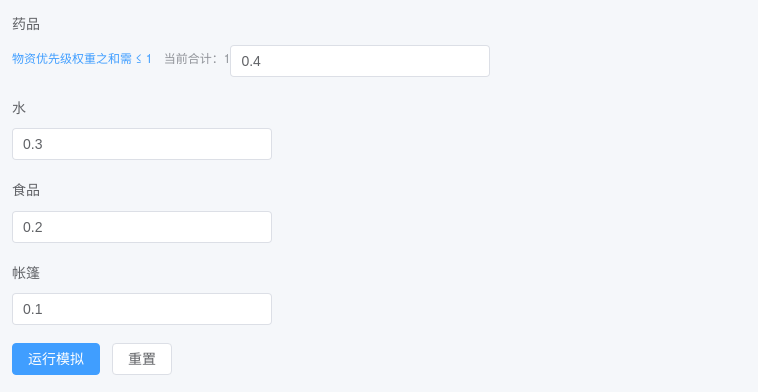
Test: ParamPanel 语义化标量组约束（V11） › ≤ 形态：合计 ≤ 常量时通过，超出时报错并禁提交（CH11-007 物资权重 ≤ 1）
Step 1. Replace the text in the field labelled "药品" with "0.9" → [360, 61], box [241,46,479,76]
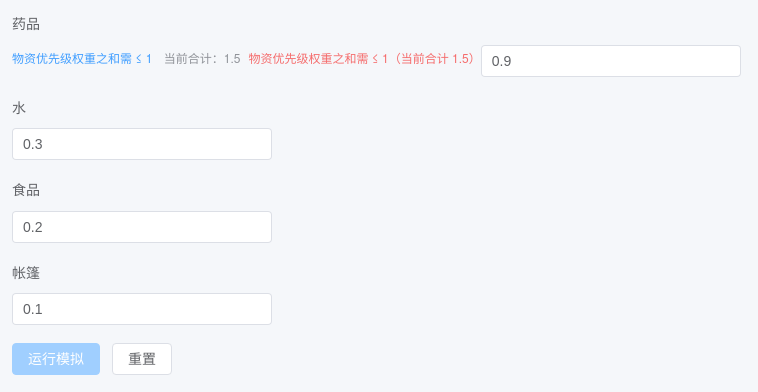
Expected: the text "物资优先级权重之和需 ≤ 1（当前合计 1.5）" is shown, [248,49,481,66]
Expected: the button with test id "run-submit" is disabled, [12,343,100,375]
